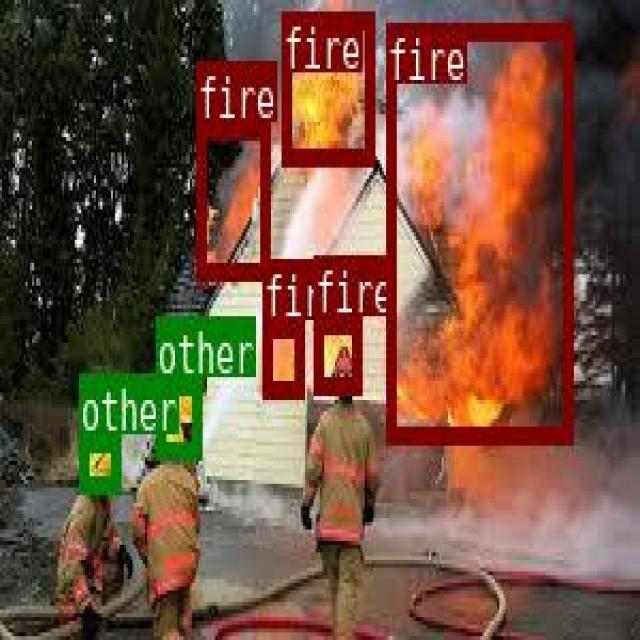fire: (385, 21, 572, 439), (280, 9, 371, 163), (195, 120, 267, 278), (313, 316, 359, 391), (262, 318, 302, 394)
